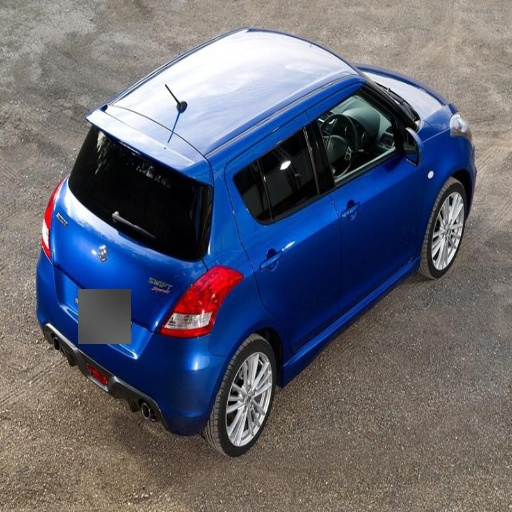back_bumper: (102, 331, 228, 434)
back_right_door: (243, 96, 352, 359)
back_right_light: (160, 270, 239, 335)
front_bumper: (49, 197, 111, 337)
trunk: (81, 256, 191, 353)
